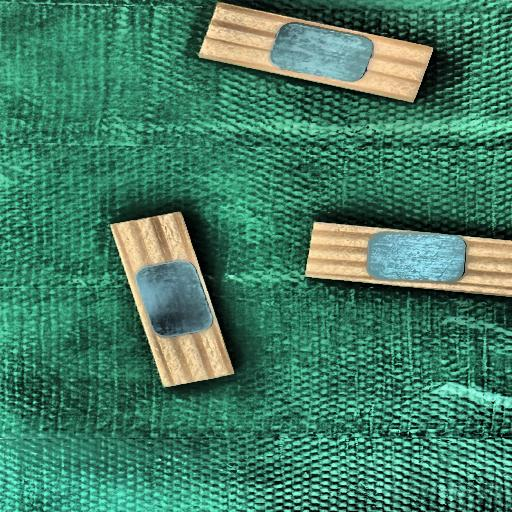objects: (199, 0, 433, 104), (109, 203, 235, 396)
